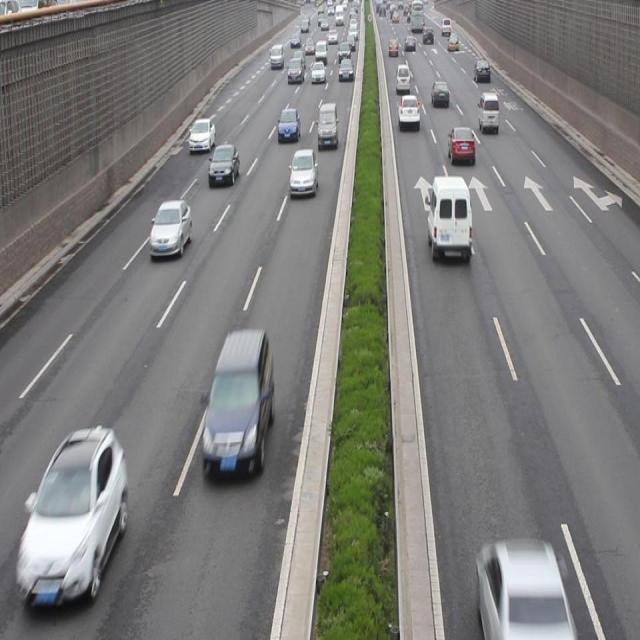car: (20, 430, 127, 604), (201, 330, 273, 484), (475, 541, 573, 640), (148, 200, 191, 259), (289, 150, 317, 196), (208, 145, 239, 186), (448, 127, 473, 162), (189, 118, 214, 152), (276, 106, 299, 142), (397, 98, 419, 130)
truck: (426, 175, 472, 262), (317, 104, 337, 147), (478, 95, 497, 134)
